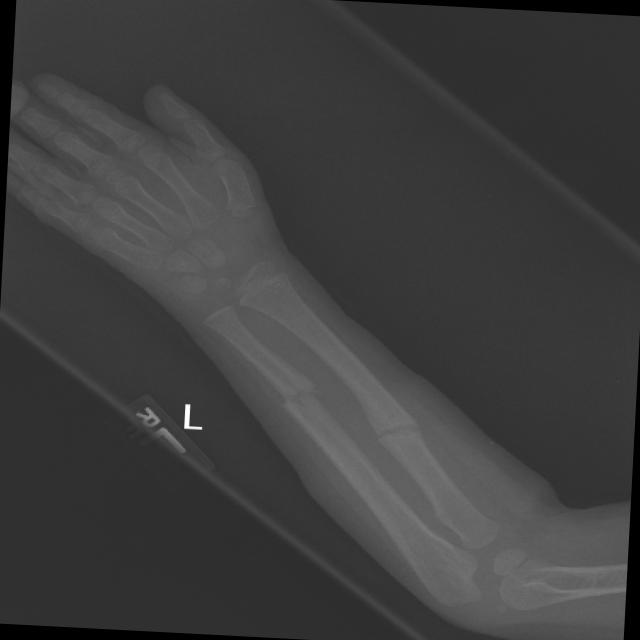forearm fracture: (239, 335, 357, 459), (357, 387, 454, 476)
